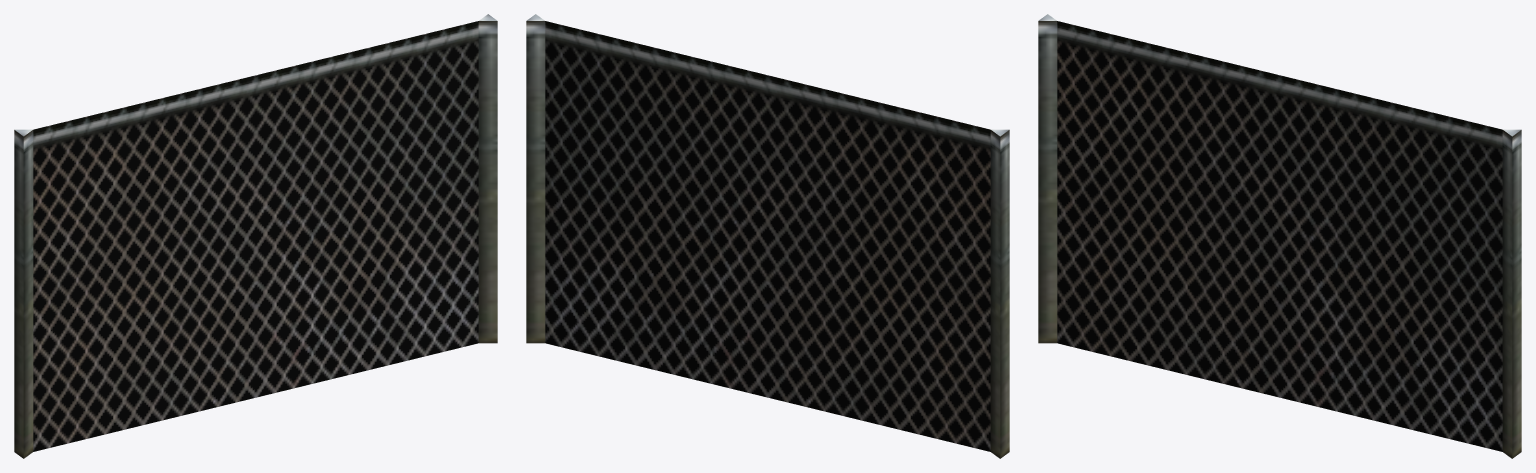
Rendered from fence2m.fbx.
3 views of the same model, side by side, from view 1: azimuth 30°, elevation 25°; view 2: azimuth 150°, elevation 25°; view 3: azimuth 330°, elevation 25° (orthographic).
Visible parts, largest first — view 1: mesh_0, mesh_1; view 2: mesh_0, mesh_1; view 3: mesh_0, mesh_1.
Part boxes in pixels (<box>): mesh_0: <box>33,21,478,451</box>; mesh_1: <box>14,14,497,458</box>; mesh_0: <box>545,21,990,451</box>; mesh_1: <box>526,14,1009,458</box>; mesh_0: <box>1057,21,1502,451</box>; mesh_1: <box>1038,14,1521,458</box>.
Bounding box in the file's own units: 200 × 130 × 6.93.
1 material, 1 textured.
